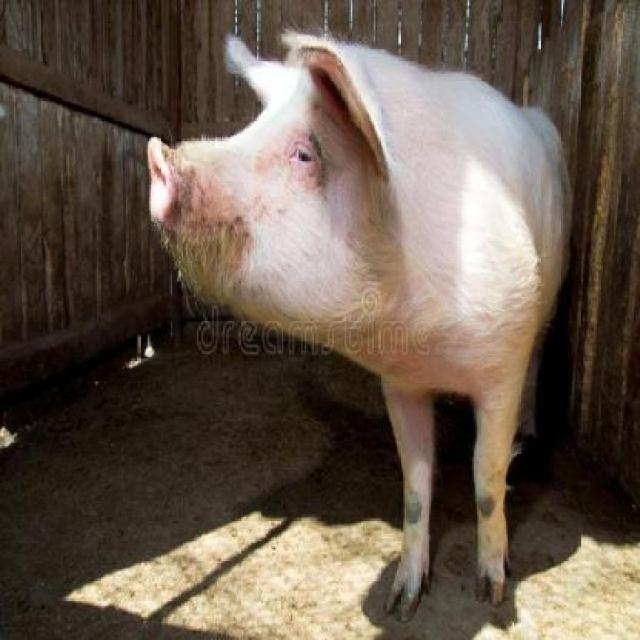pig: (148, 32, 570, 617)
